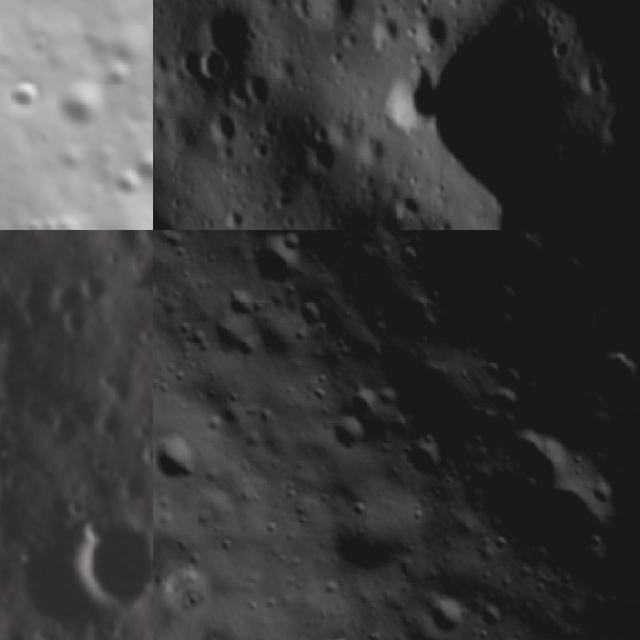crater: (0, 230, 149, 640), (488, 458, 625, 588), (56, 490, 153, 627), (449, 230, 569, 318), (490, 406, 592, 504), (574, 331, 640, 417), (244, 230, 313, 296), (153, 423, 214, 497), (558, 532, 620, 594), (374, 68, 440, 125), (318, 404, 376, 466), (59, 73, 118, 131), (398, 433, 455, 489), (398, 301, 453, 359), (421, 587, 476, 640), (478, 374, 529, 426), (0, 69, 50, 122), (342, 378, 392, 425), (490, 356, 538, 404), (477, 304, 525, 352), (55, 305, 102, 351), (548, 248, 594, 294), (489, 230, 572, 253), (191, 40, 231, 86), (292, 294, 330, 336), (363, 230, 444, 249), (473, 599, 512, 637), (110, 166, 147, 206), (153, 272, 174, 321), (134, 426, 153, 475), (319, 629, 362, 640), (446, 230, 477, 242)
